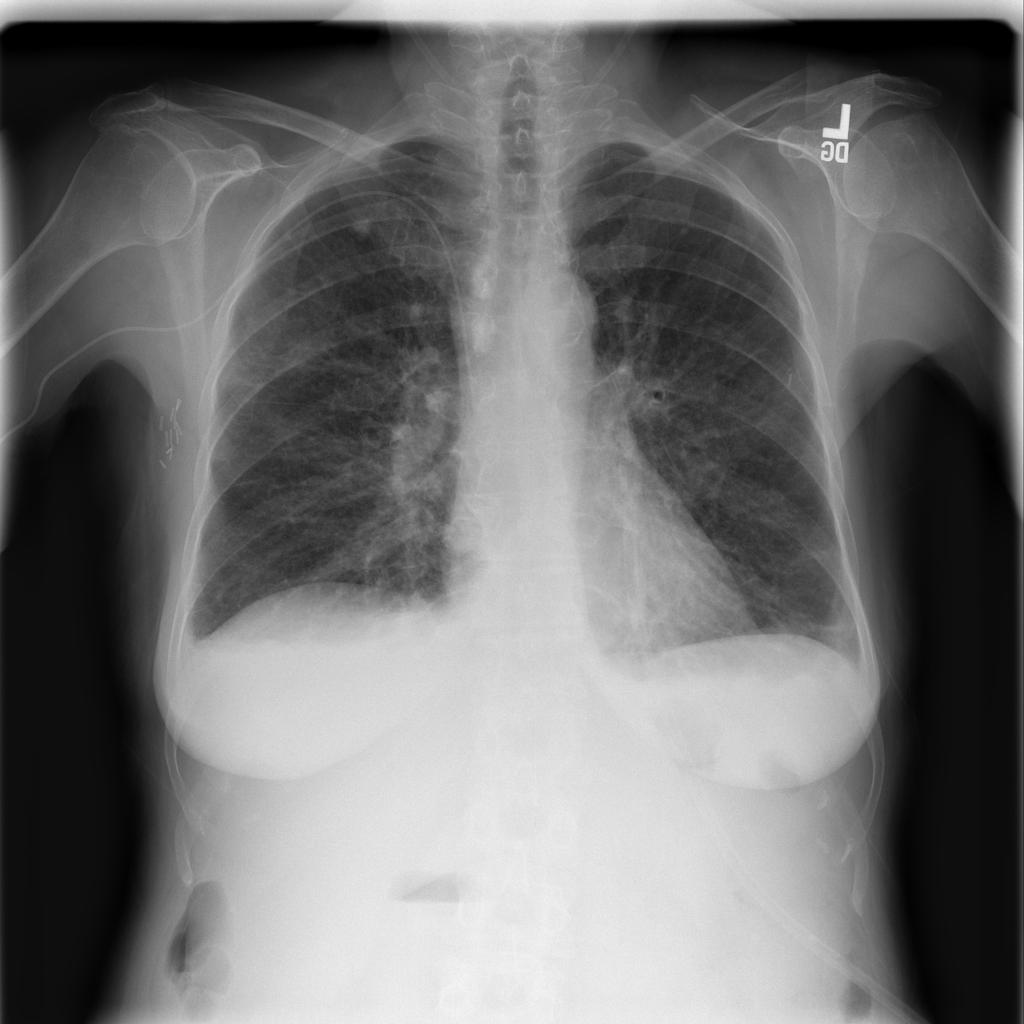nodule: (345, 207, 384, 243)
